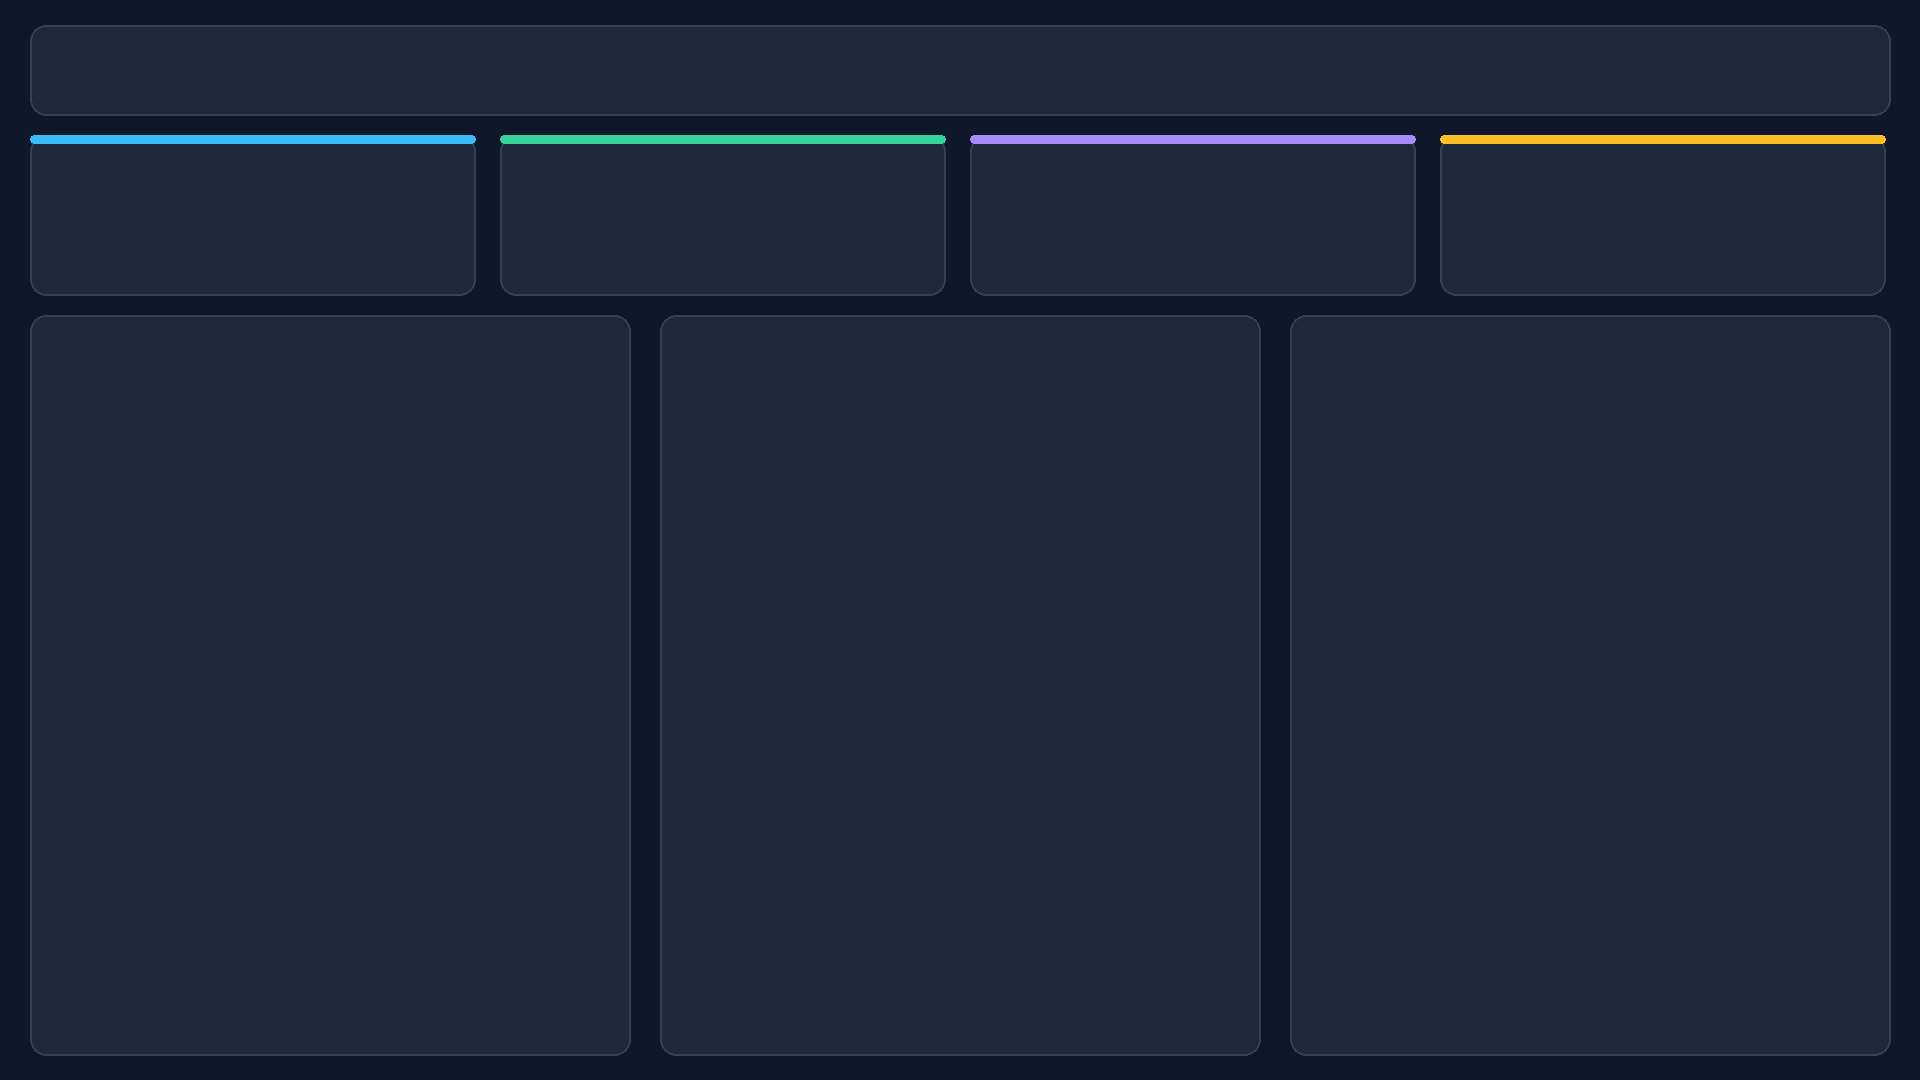

The page's visual inventory and layout, read from the dashboard file:
{"tool":"powerbi","page":{"name":"Página 1","canvas":[1920,1080],"ordinal":0},"visuals":[{"type":"cardVisual","fields":{"Data":["Sum(fact_atendimentos.receita_liquida)"]},"box":[32.6,139,361.6,153.1],"z":0},{"type":"cardVisual","fields":{"Data":["Avg(fact_atendimentos.score_nps)","select"]},"box":[409.8,139,377.2,153.1],"z":1000},{"type":"clusteredBarChart","fields":{"Category":["dim_profissional.nome"],"Y":["Sum(fact_atendimentos.receita_liquida)"]},"box":[32.6,313.4,591.3,730.3],"z":2000},{"type":"cardVisual","fields":{"Data":["CountNonNull(fact_atendimentos.id_atendimento_origem)"]},"box":[798.3,139,358.8,153.1],"z":2001},{"type":"cardVisual","fields":{"Data":["Sum(fact_atendimentos.margem_contribuicao)"]},"box":[1181.2,139,374.4,153.1],"z":2002},{"type":"clusteredColumnChart","fields":{"Category":["dim_tempo.nome_dia_semana"],"Y":["CountNonNull(fact_atendimentos.id_atendimento_origem)"]},"box":[648,313.4,594.2,730.3],"z":2003},{"type":"donutChart","fields":{"Category":["dim_servico.categoria"],"Y":["Sum(fact_atendimentos.receita_liquida)"]},"box":[1264.9,313.4,602.7,730.3],"z":2004},{"type":"slicer","fields":{"Values":["dim_servico.categoria"]},"box":[1595.3,52.5,294.9,226.9],"z":2005},{"type":"textbox","box":[1463.4,19.9,184.3,119.1],"z":2006},{"type":"textbox","box":[94,20,280,162],"z":2007},{"type":"textbox","box":[27.9,16,693.4,63.8],"z":2008},{"type":"textbox","box":[33.3,66.5,459.4,34],"z":2009}]}

Visuals, with their boxes in screenshot pixels (x1, y1, x2, y2), scaled from the page's 1920x1080 canvas onto the 1920x1080 screenshot:
cardVisual - Sum(fact_atendimentos.receita_liquida): BBox(33, 139, 394, 292)
cardVisual - Avg(fact_atendimentos.score_nps) x select: BBox(410, 139, 787, 292)
clusteredBarChart - dim_profissional.nome x Sum(fact_atendimentos.receita_liquida): BBox(33, 313, 624, 1044)
cardVisual - CountNonNull(fact_atendimentos.id_atendimento_origem): BBox(798, 139, 1157, 292)
cardVisual - Sum(fact_atendimentos.margem_contribuicao): BBox(1181, 139, 1556, 292)
clusteredColumnChart - dim_tempo.nome_dia_semana x CountNonNull(fact_atendimentos.id_atendimento_origem): BBox(648, 313, 1242, 1044)
donutChart - dim_servico.categoria x Sum(fact_atendimentos.receita_liquida): BBox(1265, 313, 1868, 1044)
slicer - dim_servico.categoria: BBox(1595, 52, 1890, 279)
textbox: BBox(1463, 20, 1648, 139)
textbox: BBox(94, 20, 374, 182)
textbox: BBox(28, 16, 721, 80)
textbox: BBox(33, 66, 493, 100)
